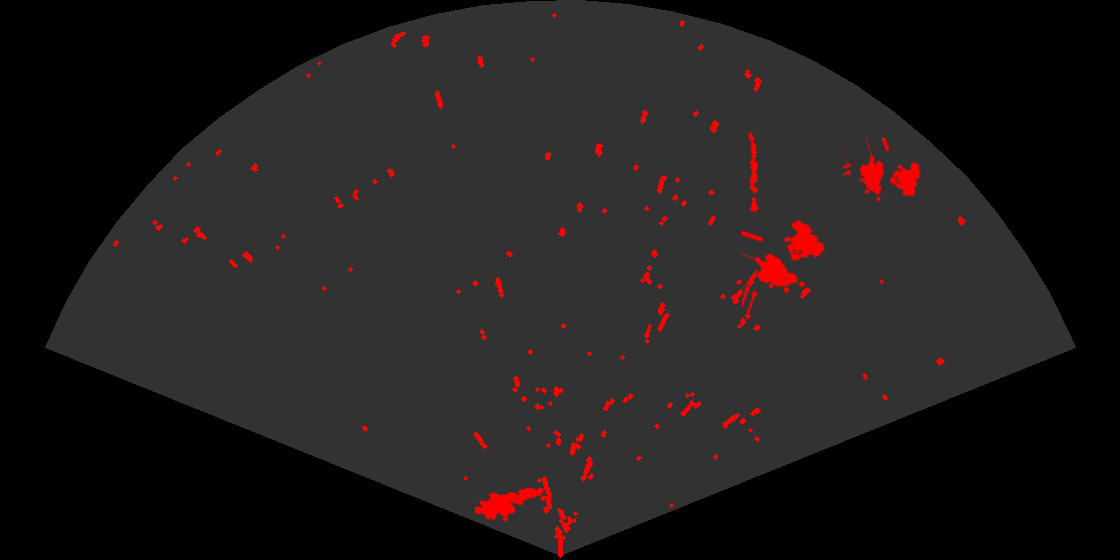cage: (742, 218, 826, 315), (843, 138, 922, 203)
chain: (747, 131, 761, 213)
frogman: (475, 486, 546, 523)
